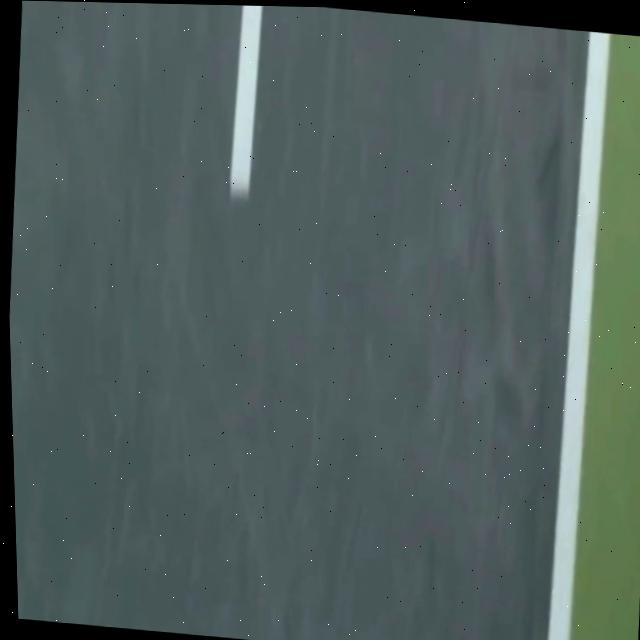center: (229, 5, 261, 200)
right: (547, 31, 609, 640)
